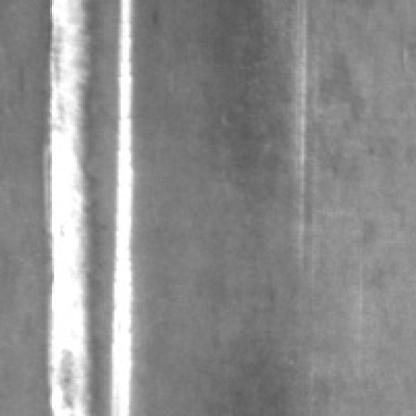scratches: (48, 4, 98, 416), (110, 4, 144, 416), (289, 6, 316, 266)
